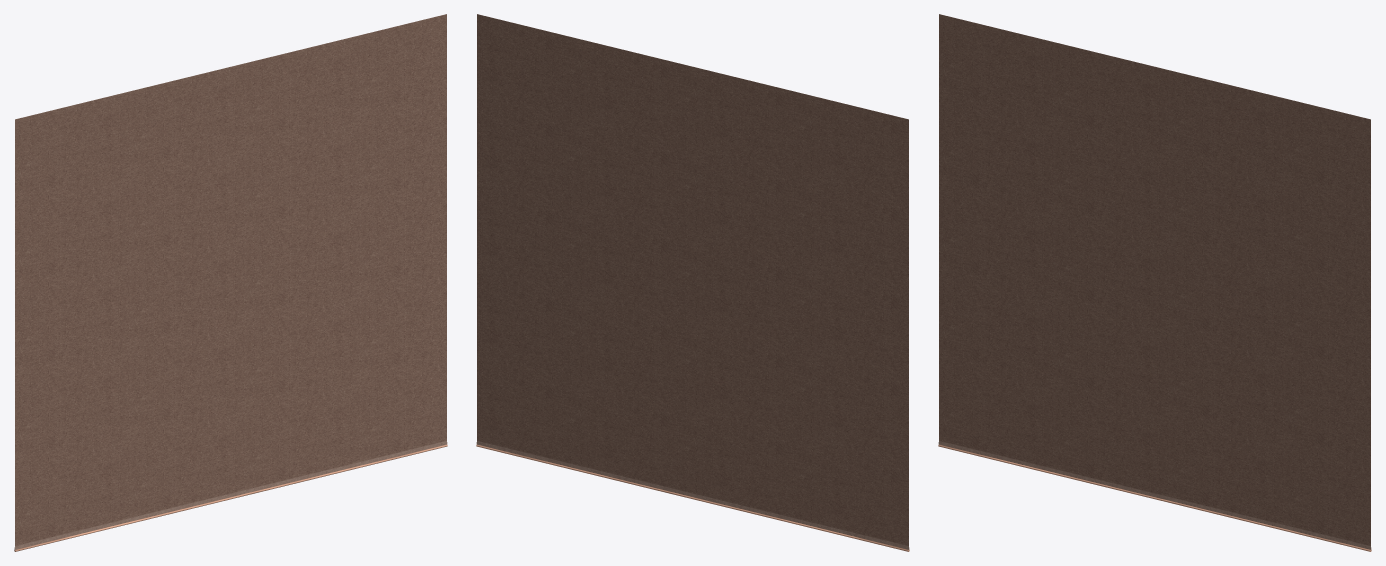
File: ROLLER_SHADES.glb
3 views of the same model, side by side, from view 1: azimuth 30°, elevation 25°; view 2: azimuth 150°, elevation 25°; view 3: azimuth 330°, elevation 25° (orthographic).
Parts seen in each view (by area): view 1: ROLLER_SHADES; view 2: ROLLER_SHADES; view 3: ROLLER_SHADES.
Part boxes in pixels (x1=…): ROLLER_SHADES: x1=14, y1=14, x2=447, y2=551; ROLLER_SHADES: x1=476, y1=14, x2=909, y2=551; ROLLER_SHADES: x1=938, y1=14, x2=1371, y2=551.
Bounding box in the file's own units: 46.88 × 44.83 × 0.2294.
1 material, 1 textured.
